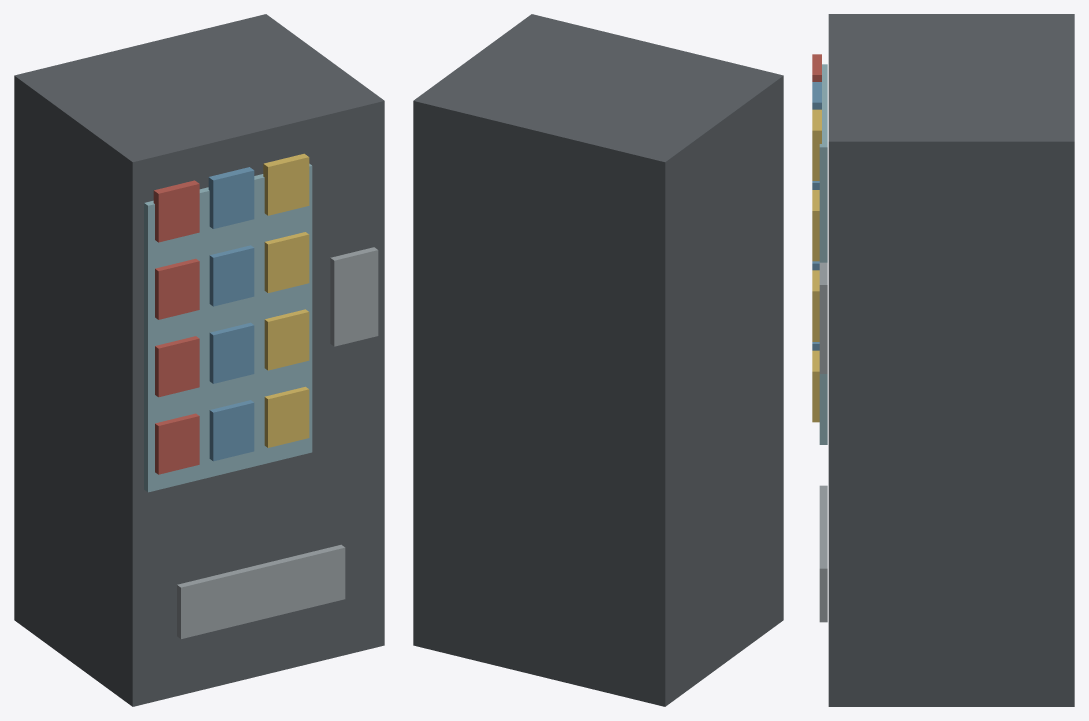
Rendered from vending_machine.glb.
3 views of the same model, side by side, from view 1: azimuth 30°, elevation 25°; view 2: azimuth 150°, elevation 25°; view 3: azimuth 270°, elevation 25° (orthographic). The views are drawn at different scales.
Parts seen in each view (by area): view 1: body_1, panel_2, panel_16, panel_15, product_14, product_13, product_12, product_5, product_8, product_10, product_11, product_4 (+4 smaller); view 2: body_1; view 3: body_1, panel_2, panel_16, panel_15, product_14, product_5, product_8, product_11.
Boxes of the visible parts, <box> form: body_1: <box>14,14,384,706</box>; panel_2: <box>144,163,312,492</box>; panel_16: <box>177,544,345,638</box>; panel_15: <box>330,247,378,346</box>; product_14: <box>263,153,309,215</box>; product_13: <box>208,167,254,228</box>; product_12: <box>153,180,199,242</box>; product_5: <box>264,386,309,447</box>; product_8: <box>264,309,309,370</box>; product_10: <box>209,245,254,306</box>; product_11: <box>264,232,309,292</box>; product_4: <box>209,400,254,461</box>; body_1: <box>413,14,783,706</box>; body_1: <box>828,14,1074,706</box>; panel_2: <box>819,64,827,444</box>; panel_16: <box>819,485,827,622</box>; panel_15: <box>819,262,827,373</box>; product_14: <box>812,109,821,180</box>; product_5: <box>812,350,819,422</box>; product_8: <box>812,270,819,341</box>; product_11: <box>812,190,819,261</box>.
Bounding box in the file's own units: 0.92 × 1.9 × 0.8.
